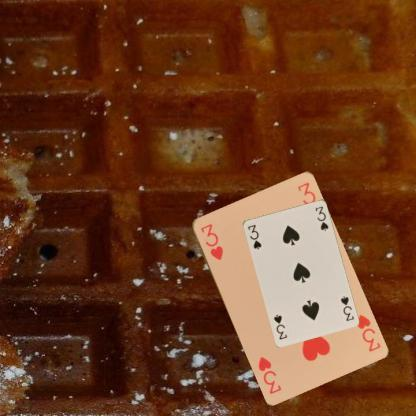3h: (354, 311, 382, 353), (198, 221, 224, 262)
3s: (337, 293, 355, 322), (245, 222, 262, 251)
